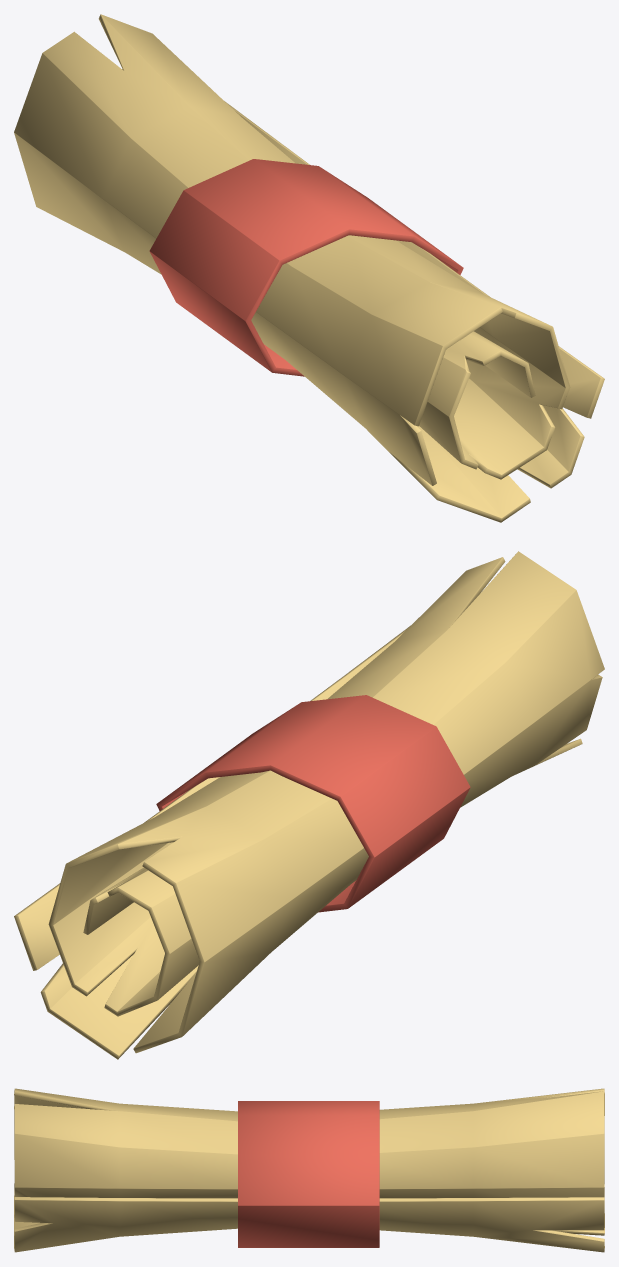
3 views of the same model, one above another, from view 1: azimuth 30°, elevation 25°; view 2: azimuth 150°, elevation 25°; view 3: azimuth 270°, elevation 25° (orthographic). The views are drawn at different scales.
Parts seen in each view (by area): view 1: Spiral_2, Spiral.001_3; view 2: Spiral_2, Spiral.001_3; view 3: Spiral_2, Spiral.001_3.
Part boxes in pixels (x1,y1,x2,y2): Spiral_2: (14,14,604,522); Spiral.001_3: (149,159,463,376); Spiral_2: (14,551,604,1059); Spiral.001_3: (156,695,470,912); Spiral_2: (14,1088,604,1252); Spiral.001_3: (238,1101,379,1247).
Bounding box in the file's own units: 6.3 × 5.94 × 20.05.
